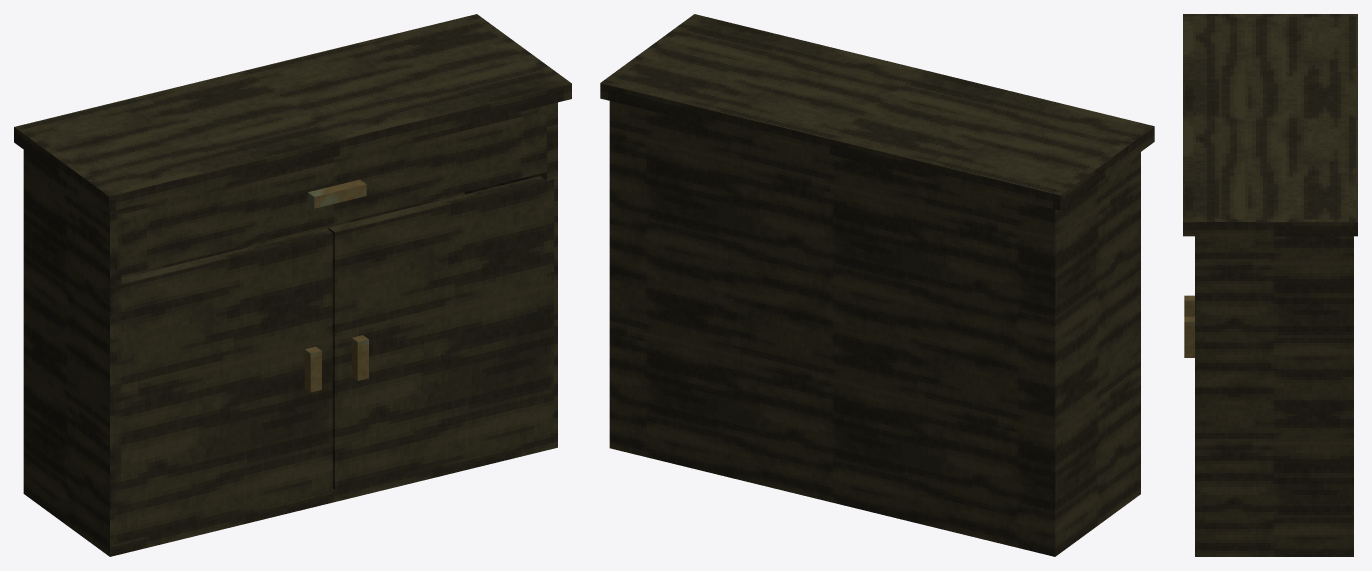
The model's file is Cabinet_Hall.fbx.
The picture shows the model from 3 angles, left to right: view 1: azimuth 30°, elevation 25°; view 2: azimuth 150°, elevation 25°; view 3: azimuth 270°, elevation 25°; orthographic projection. The views are drawn at different scales.
Parts seen in each view (by area): view 1: Cabinet_Hall_DoorR_Panel, Cabinet_Hall_DoorL_Panel, Cabinet_Hall_Top, Cabinet_Hall_Body, Cabinet_Hall_Drawer_Front, Cabinet_Hall_Drawer_Handle, Cabinet_Hall_DoorL_Handle, Cabinet_Hall_DoorR_Handle; view 2: Cabinet_Hall_Body, Cabinet_Hall_Top; view 3: Cabinet_Hall_Body, Cabinet_Hall_Top, Cabinet_Hall_DoorR_Handle, Cabinet_Hall_DoorL_Handle.
Boxes of the visible parts, <box> form: Cabinet_Hall_DoorR_Panel: <box>328,176,554,490</box>; Cabinet_Hall_DoorL_Panel: <box>113,228,332,543</box>; Cabinet_Hall_Top: <box>14,14,571,211</box>; Cabinet_Hall_Body: <box>23,102,557,556</box>; Cabinet_Hall_Drawer_Front: <box>117,108,547,276</box>; Cabinet_Hall_Drawer_Handle: <box>307,179,366,208</box>; Cabinet_Hall_DoorL_Handle: <box>304,346,321,392</box>; Cabinet_Hall_DoorR_Handle: <box>352,335,368,380</box>; Cabinet_Hall_Body: <box>609,101,1140,556</box>; Cabinet_Hall_Top: <box>600,14,1154,210</box>; Cabinet_Hall_Body: <box>1195,236,1353,556</box>; Cabinet_Hall_Top: <box>1183,14,1357,236</box>; Cabinet_Hall_DoorR_Handle: <box>1184,316,1194,357</box>; Cabinet_Hall_DoorL_Handle: <box>1184,295,1194,316</box>.
Bounding box in the file's own units: 1.24 × 0.94 × 0.44.
Materials: 2 (2 with a texture image).
